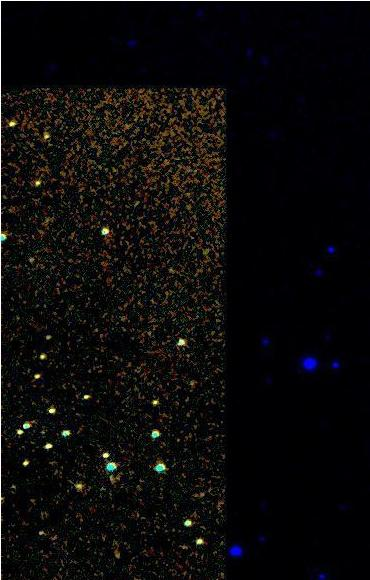star: (65, 468, 95, 498)
